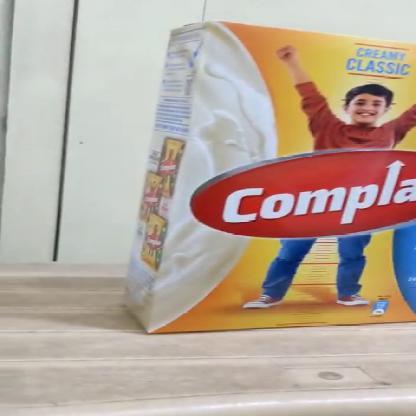Complan Classic Creme: (161, 38, 415, 332)
